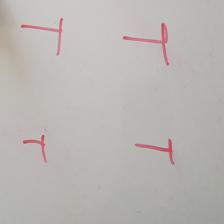inhibition: (122, 22, 170, 65), (20, 16, 64, 56), (134, 138, 174, 164), (21, 133, 46, 163)
